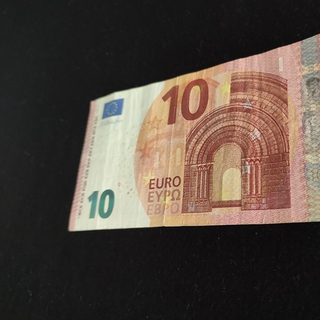10EUROFront: (67, 34, 320, 233)
